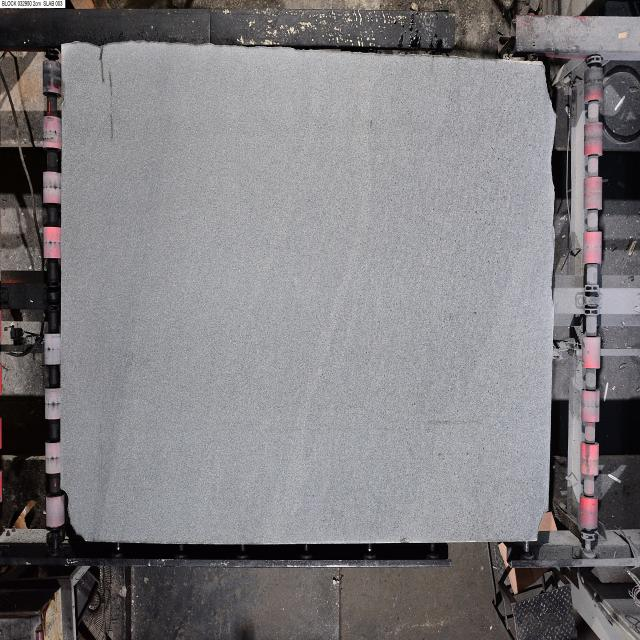chapa: (61, 43, 555, 544)
